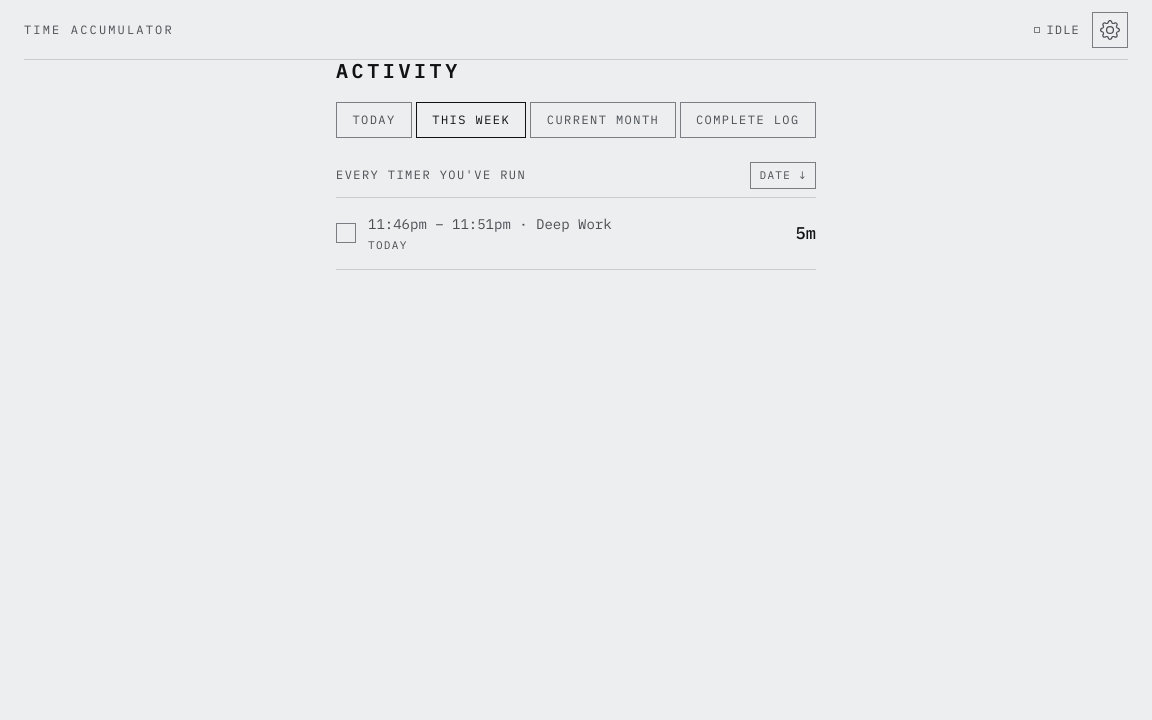
it: selection footer in Activity › tags the selection with the pool picked from the dropdown
Click the button with class "entry-row__checkbox": (346, 233) [336,223,356,243]
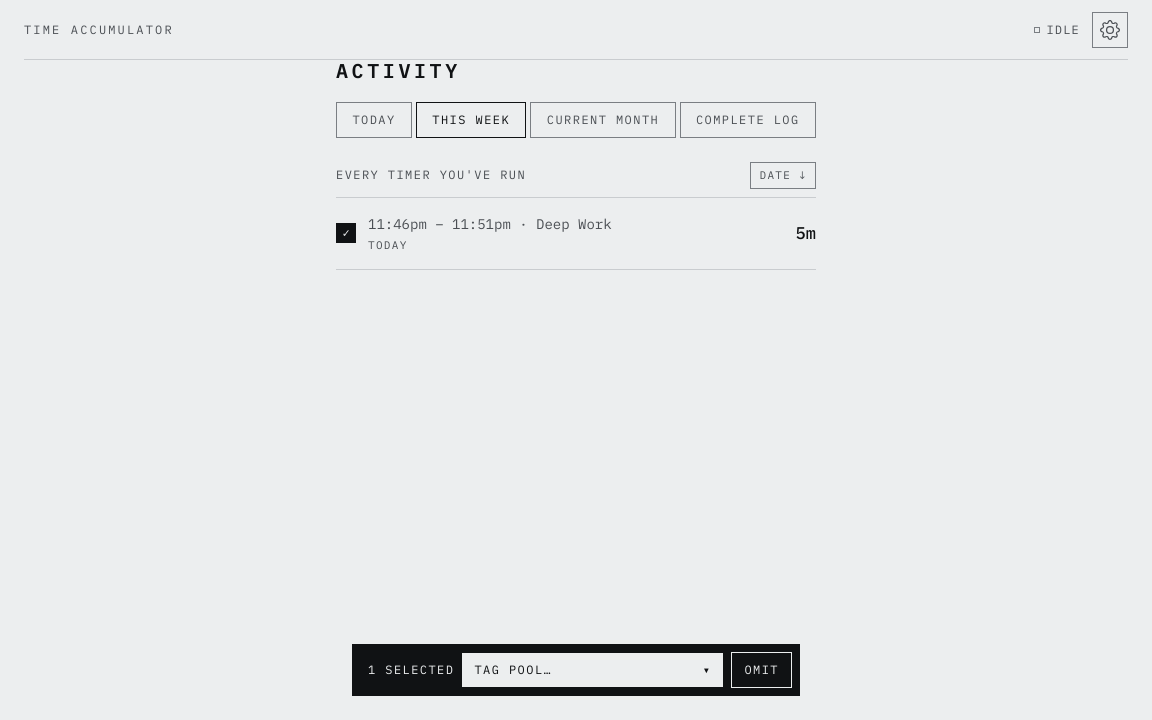
Select "Gym" in the dropdown with class "bulk-bar__select": (593, 670) [462,653,723,687]
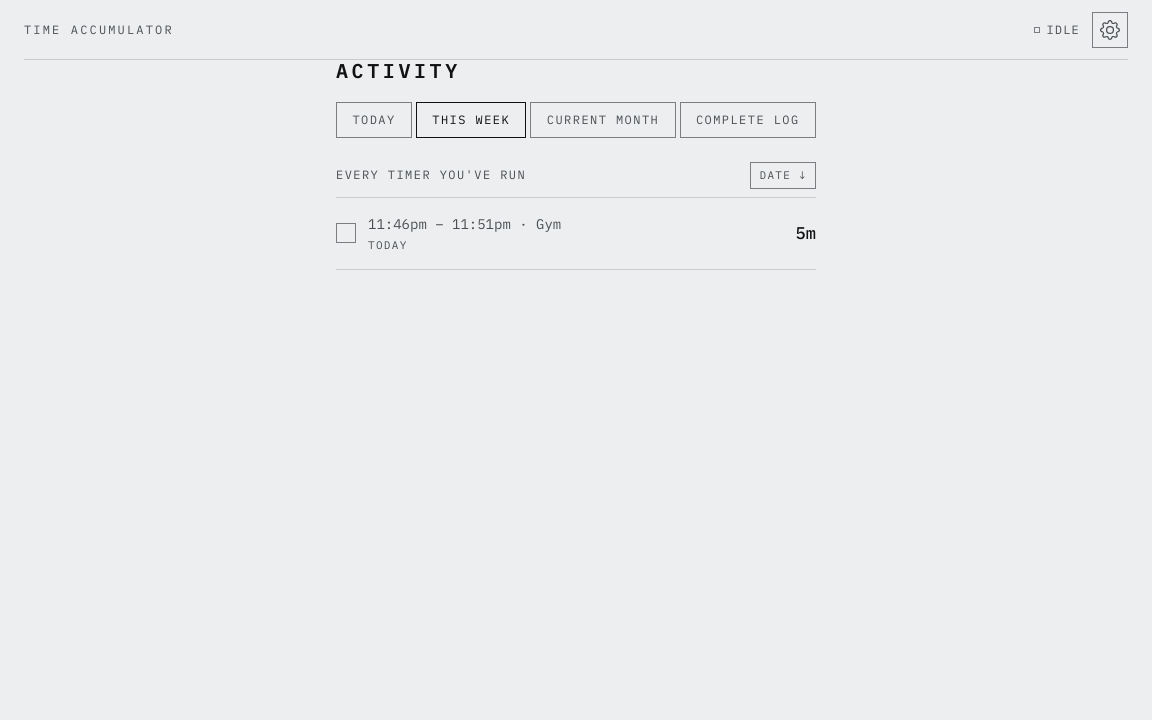
Expected: the element with class "bulk-bar" is gone
